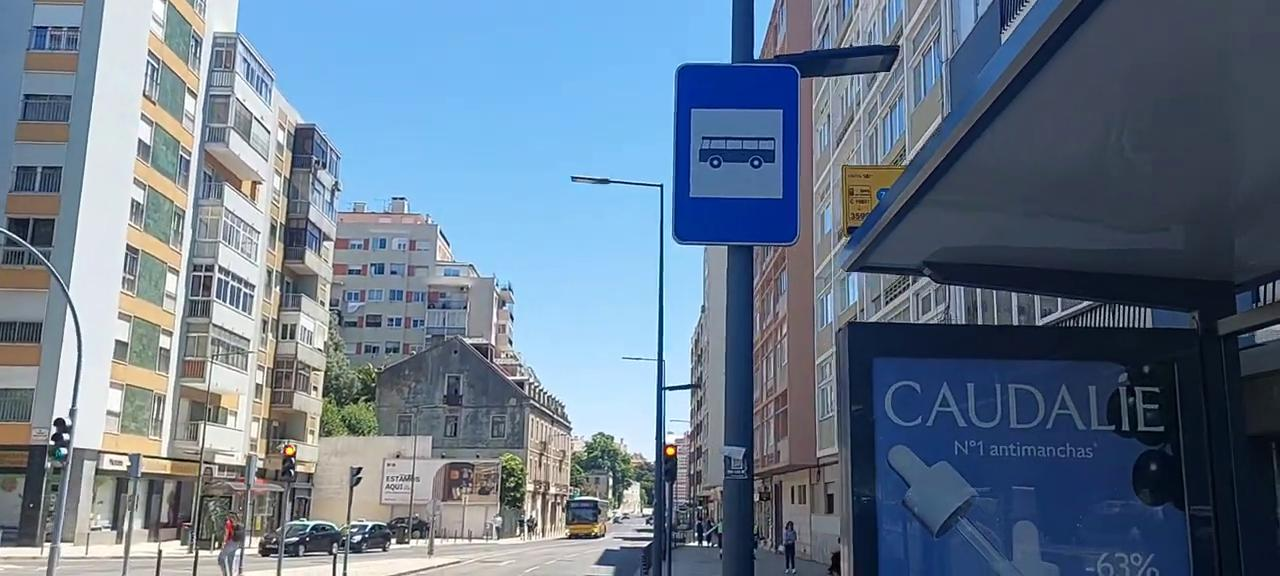paragem de veiculos de transporte colectivo de passageiros: (666, 61, 805, 252)
